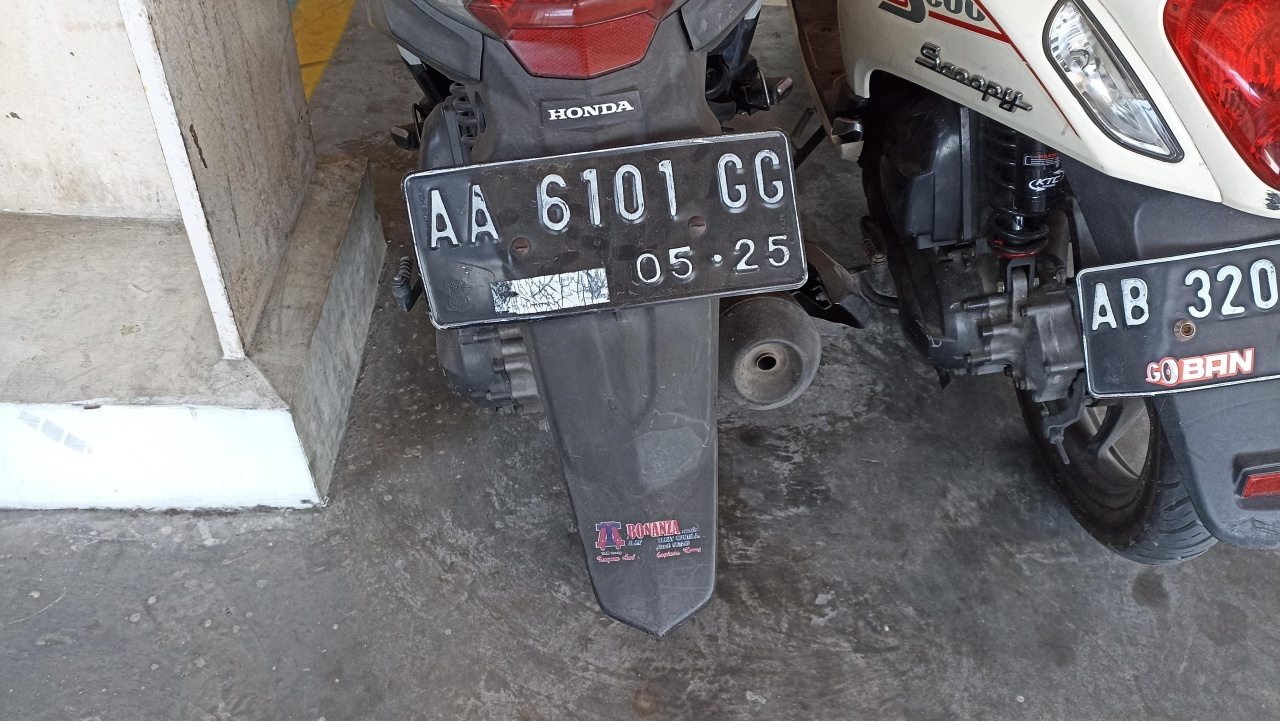plate: (403, 128, 810, 331)
